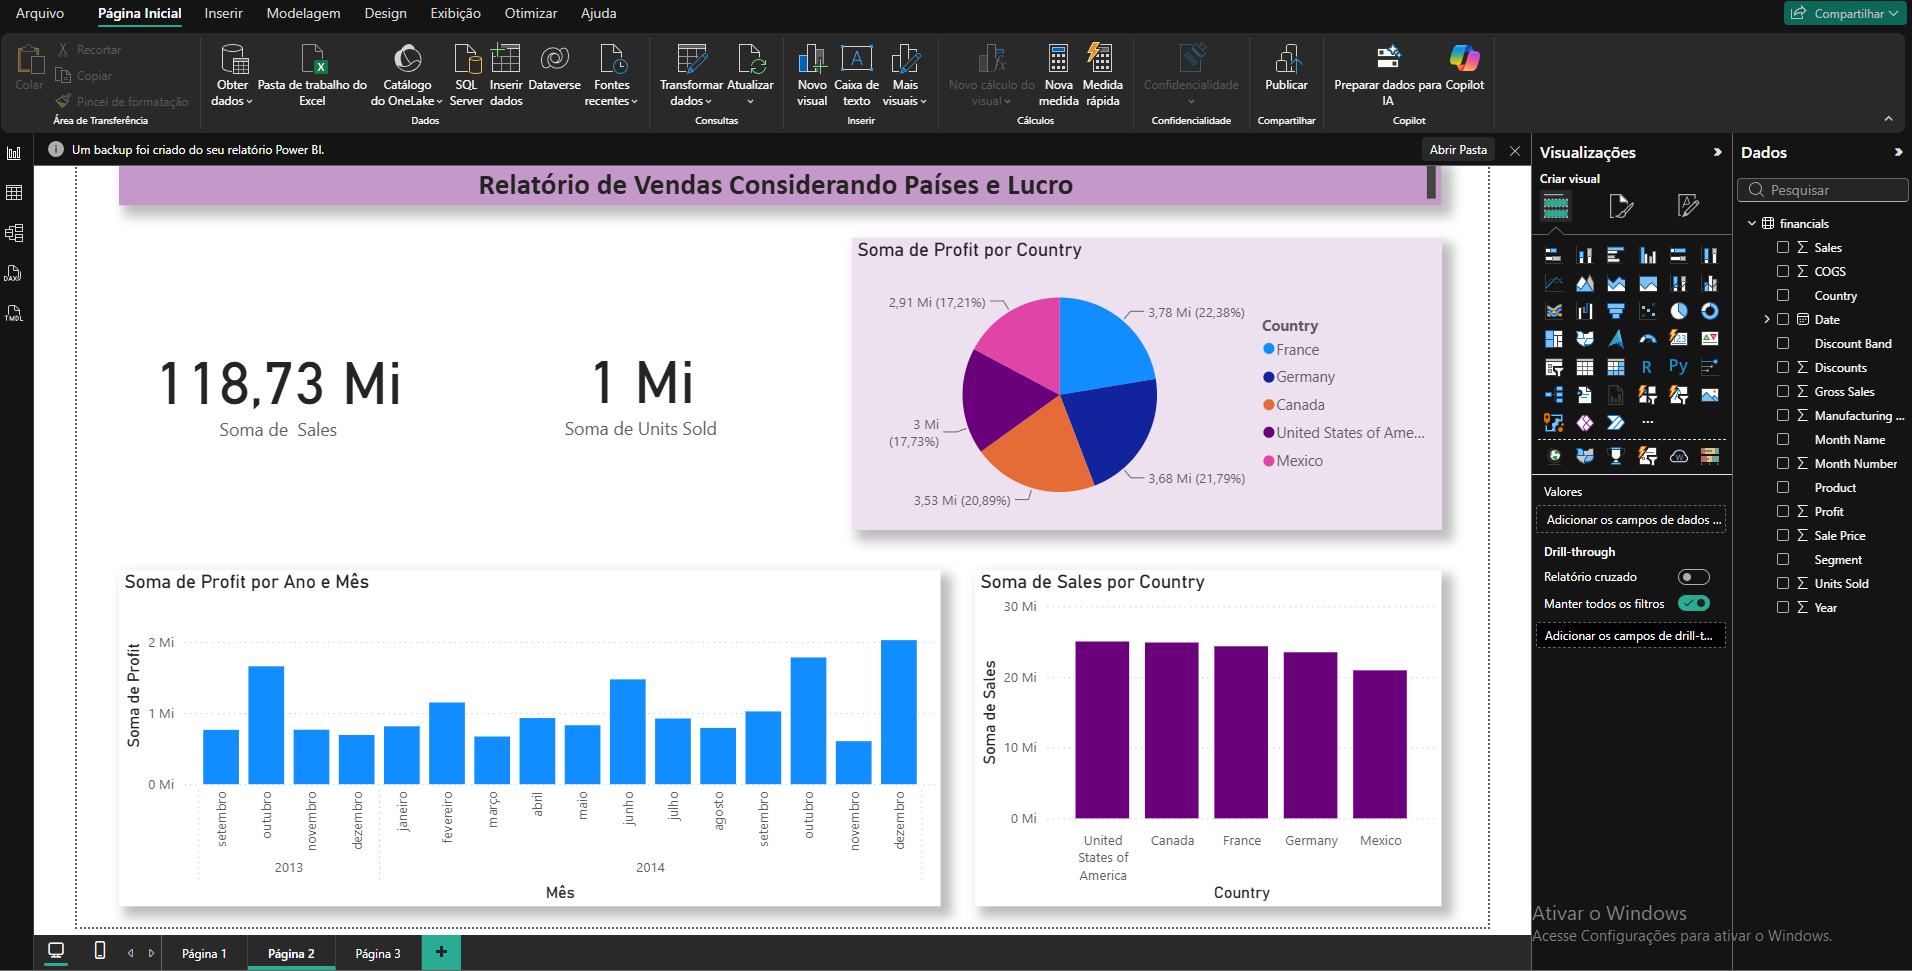

What the dashboard file says about the page in this screenshot:
{"tool":"powerbi","page":{"name":"Página 2","canvas":[1280,720],"ordinal":1},"visuals":[{"type":"textbox","box":[38.5,24.7,1198.9,41.2],"z":0},{"type":"card","fields":{"Values":["Sum(financials. Sales)"]},"box":[38.5,155.4,288.7,149.9],"z":1000},{"type":"card","fields":{"Values":["Sum(financials.Units Sold)"]},"box":[357.5,154,308,151.2],"z":2000},{"type":"pieChart","fields":{"Category":["financials.Country"],"Y":["Sum(financials.Profit)"]},"box":[702.6,94.9,534.8,265.3],"z":3000},{"type":"clusteredColumnChart","fields":{"Category":["financials.Date.Variation.Hierarquia de datas.Ano","financials.Date.Variation.Hierarquia de datas.Mês"],"Y":["Sum(financials.Profit)"]},"box":[38.5,396,745.2,305.2],"z":4000},{"type":"clusteredColumnChart","fields":{"Category":["financials.Country"],"Y":["Sum(financials. Sales)"]},"box":[813.9,396,423.5,305.2],"z":5000}]}

Visuals, with their boxes on the page's 1280x720 design canvas (x1, y1, x2, y2). These are canvas units, not pixel positions in the 1912x971 screenshot, which may show the page scaled, cropped or inside an application window:
textbox: 38, 25, 1237, 66
card - Sum(financials. Sales): 38, 155, 327, 305
card - Sum(financials.Units Sold): 358, 154, 666, 305
pieChart - financials.Country x Sum(financials.Profit): 703, 95, 1237, 360
clusteredColumnChart - financials.Date.Variation.Hierarquia de datas.Ano x financials.Date.Variation.Hierarquia de datas.Mês: 38, 396, 784, 701
clusteredColumnChart - financials.Country x Sum(financials. Sales): 814, 396, 1237, 701
